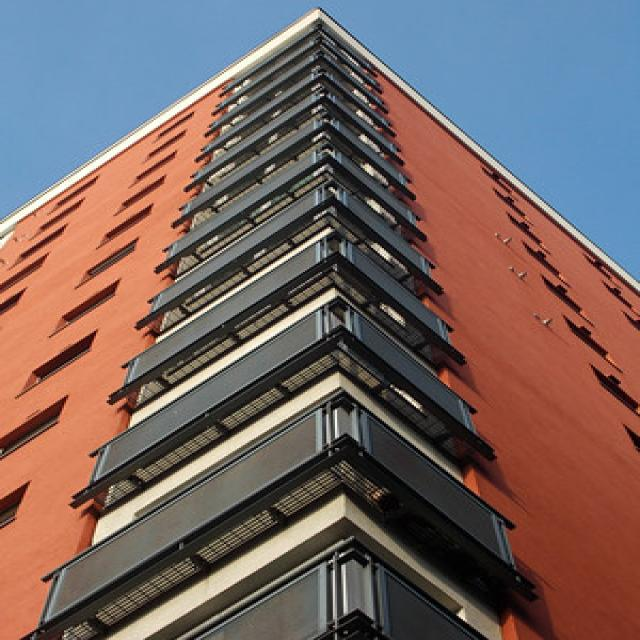Normal_building: (0, 0, 636, 637)
